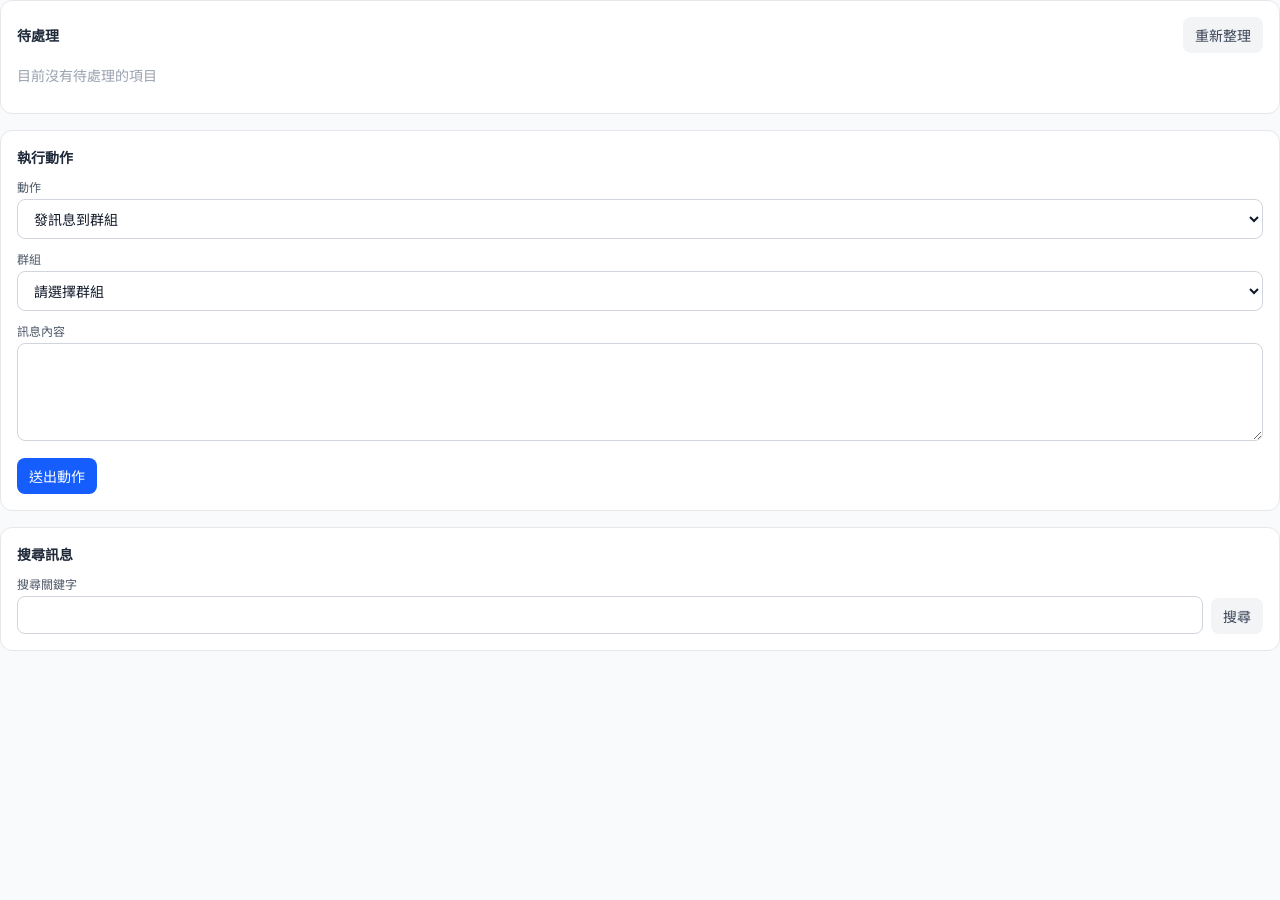
Test case: WorkbenchPage › uses the same Taipei time label as the message plan
Step 1. Select "排程訊息" in the dropdown labelled "動作" → (640, 219), box [17, 199, 1263, 239]
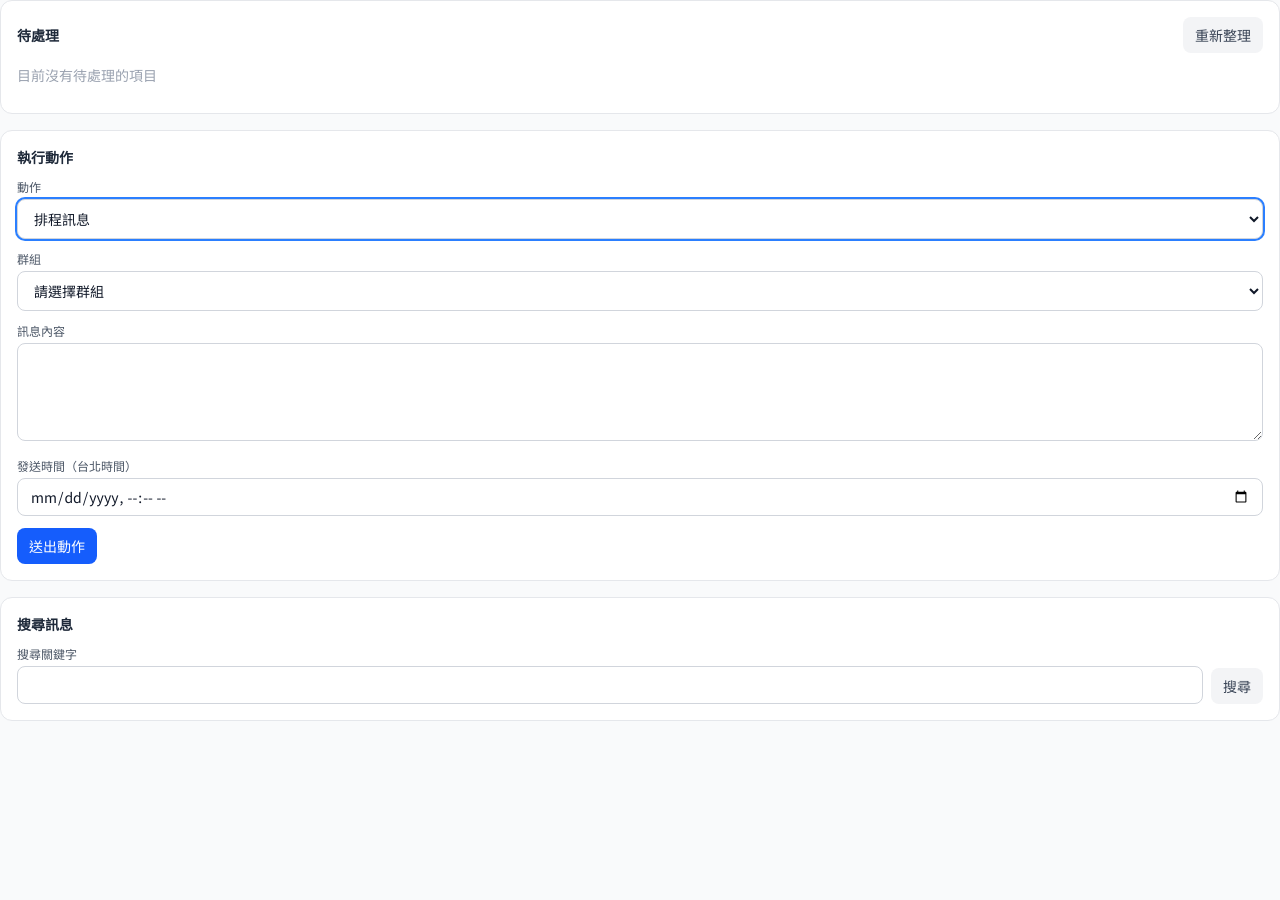
Result: the field labelled "發送時間（台北時間）" is shown at [17, 478, 1263, 516]
